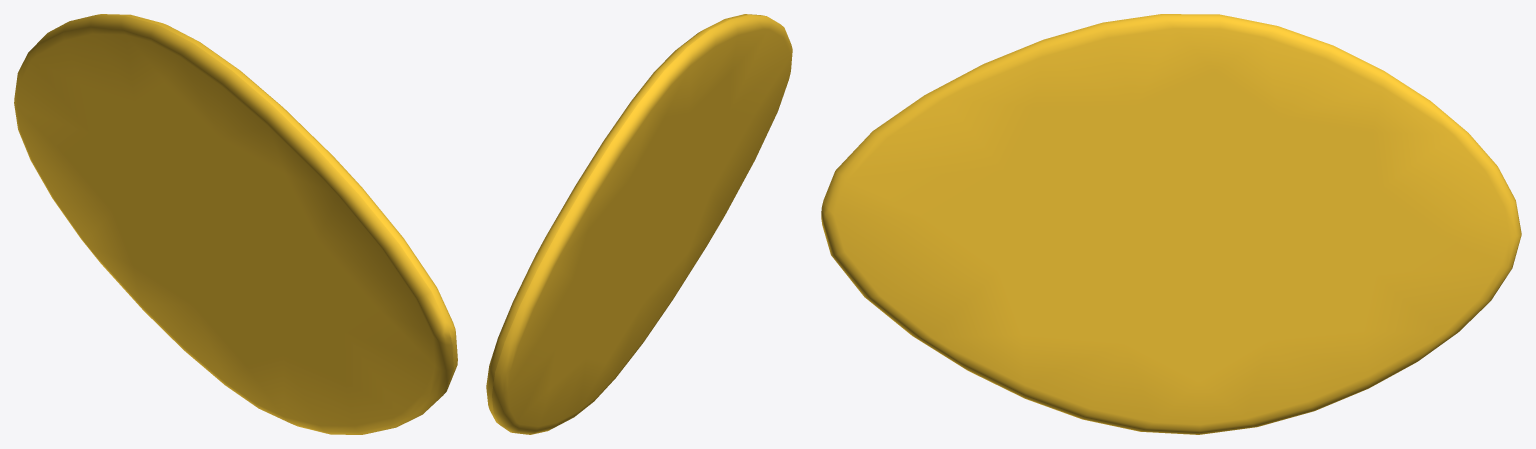
The model's file is fallLeaf_8.glb.
3 renders of one model, left to right at view 1: azimuth 30°, elevation 25°; view 2: azimuth 150°, elevation 25°; view 3: azimuth 270°, elevation 25°, orthographic. The views are drawn at different scales.
Parts seen in each view (by area): view 1: Leaf_YellowGreen_Standard.196; view 2: Leaf_YellowGreen_Standard.196; view 3: Leaf_YellowGreen_Standard.196.
Part boxes in pixels (x1,y1,x2,y2): Leaf_YellowGreen_Standard.196: (14,14,457,434); Leaf_YellowGreen_Standard.196: (486,14,792,434); Leaf_YellowGreen_Standard.196: (821,14,1521,434).
Bounding box in the file's own units: 0.3548 × 1.11 × 1.87.
